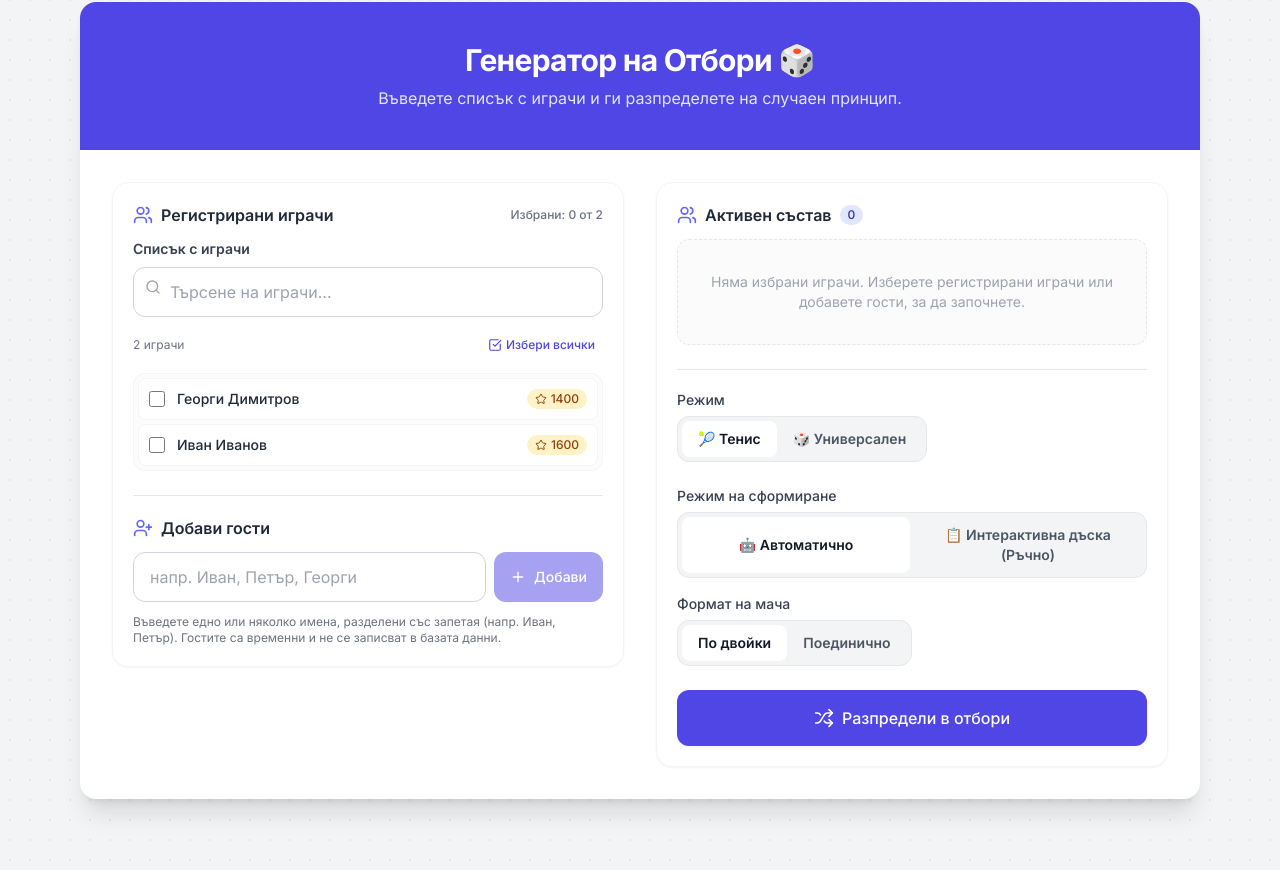
Scenario: GeneratorPage Integration Tests › handles format toggle interaction and passes active format into MatchModal
Note: Switch to singles
Click the button "Поединично".
click(847, 643)  # box [787, 625, 906, 661]
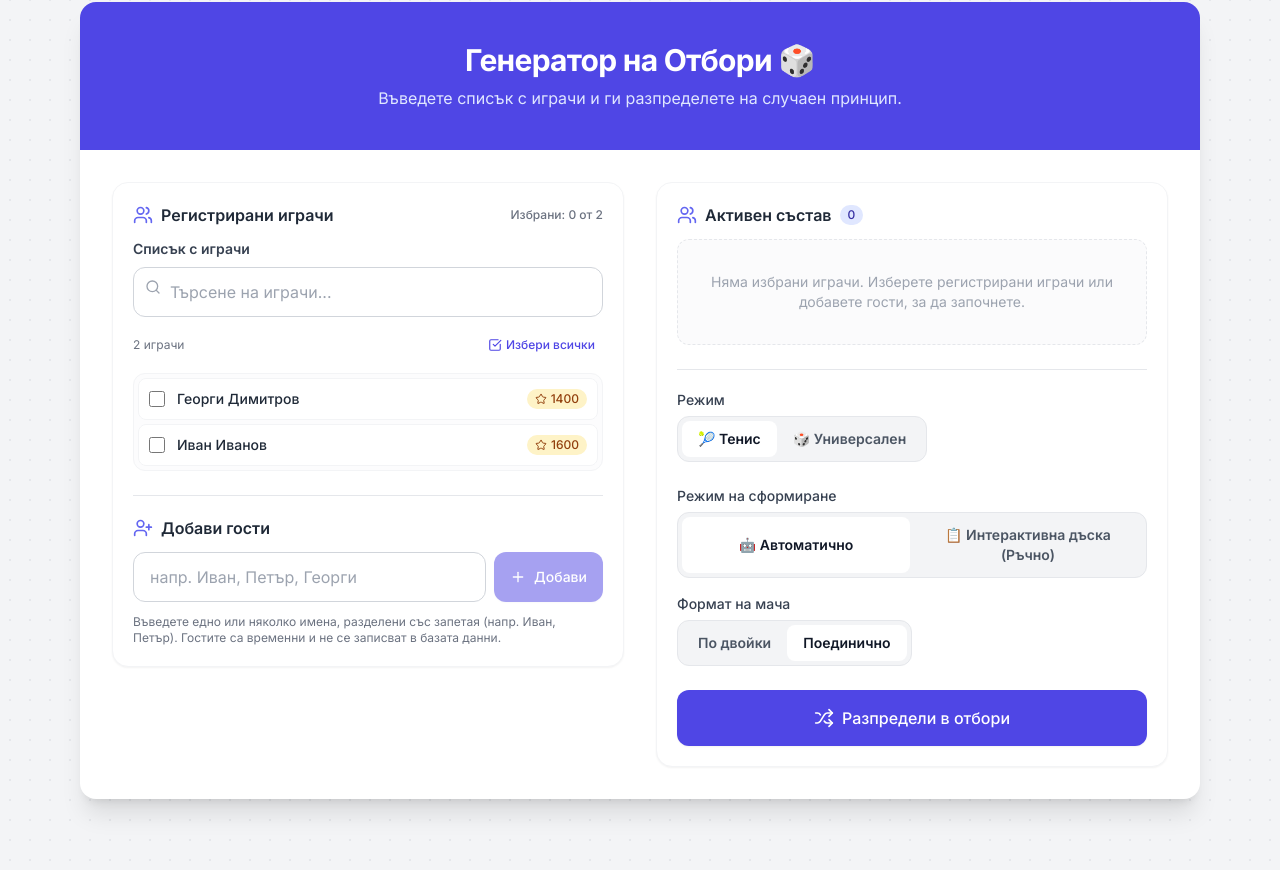
Now the button "Поединично" is pressed, box [787, 625, 906, 661]
Now the button "По двойки" is not pressed, box [682, 625, 787, 661]
Note: Add players and generate teams
Click the checkbox labelled "Иван Иванов".
click(157, 445)  # box [149, 437, 165, 453]
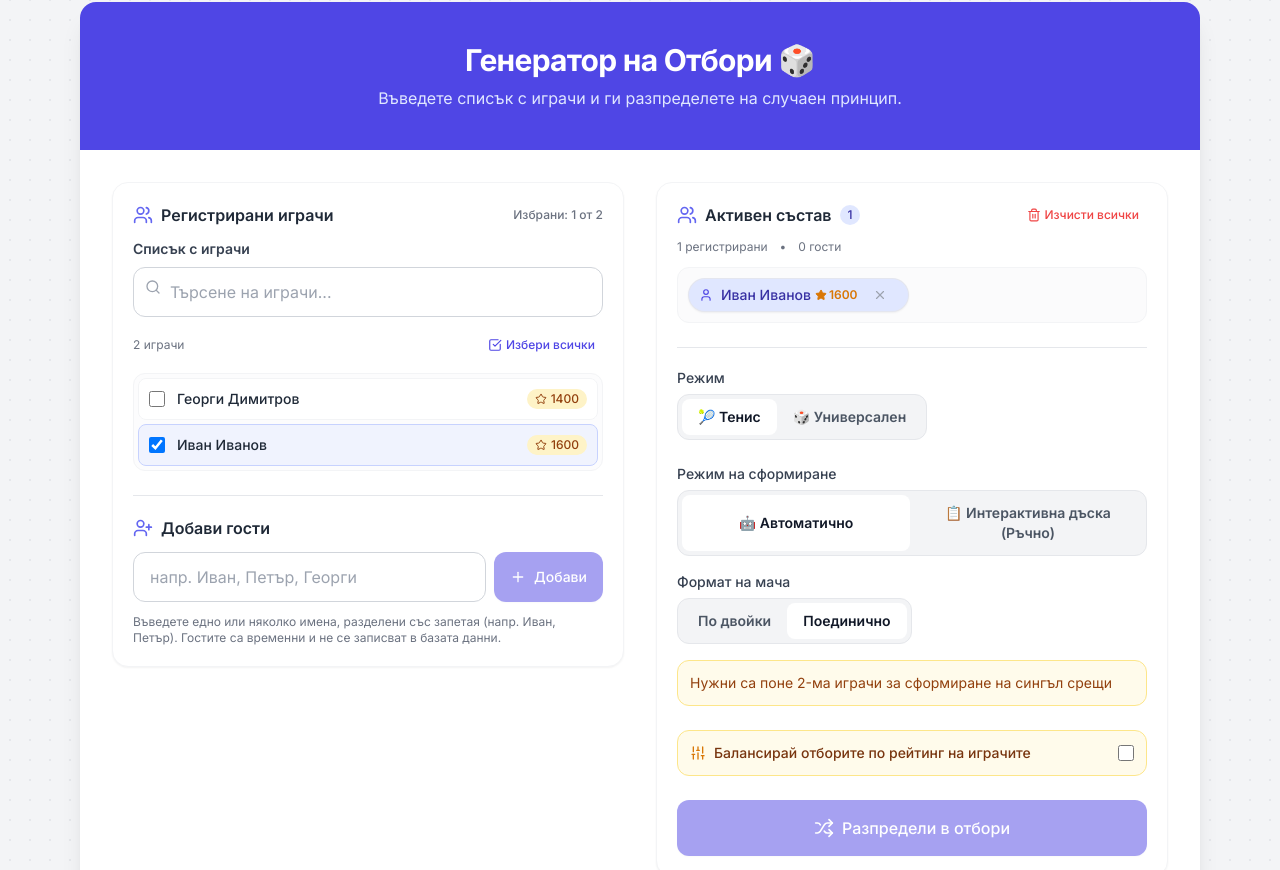
Click the checkbox labelled "Георги Димитров".
click(157, 399)  # box [149, 391, 165, 407]
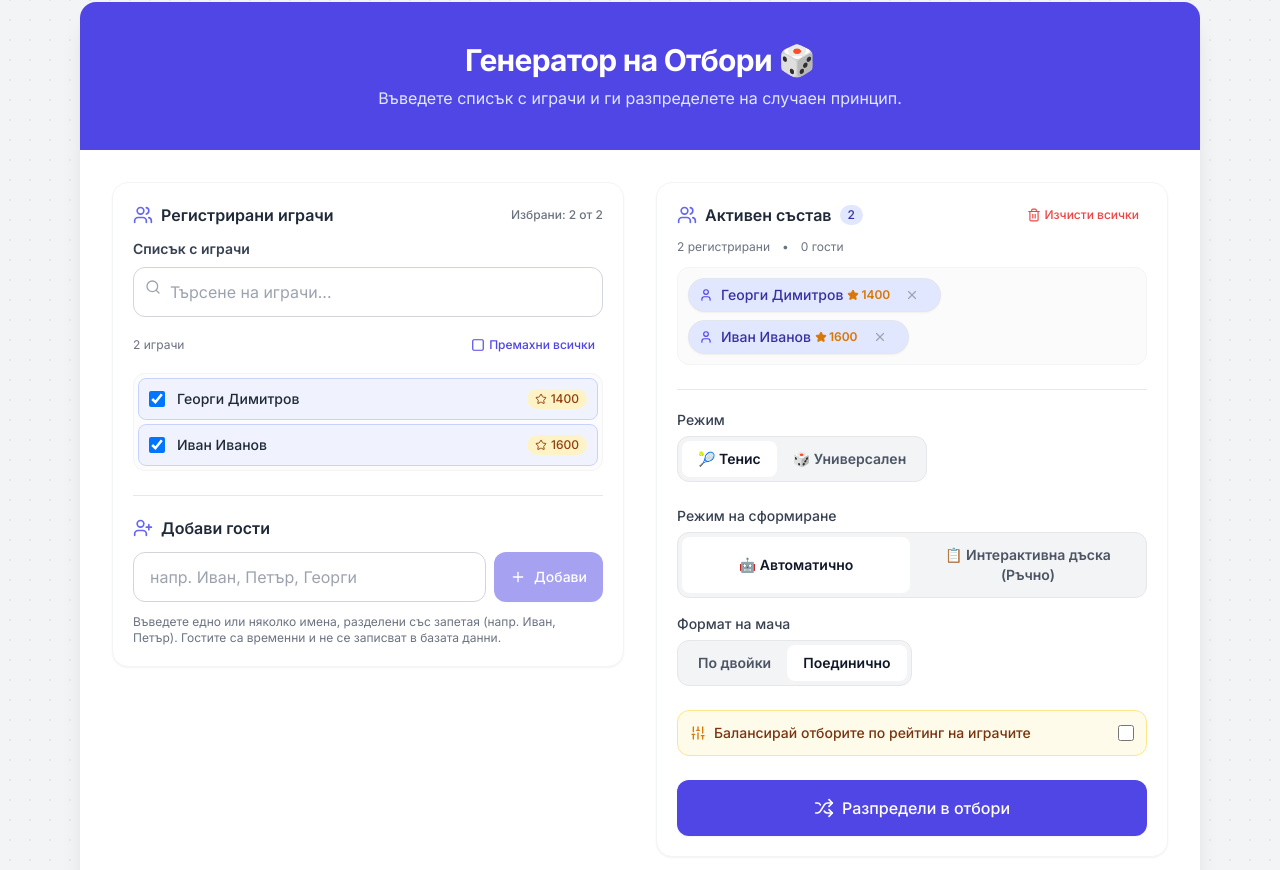
Click the button "Разпредели в отбори".
click(912, 808)  # box [677, 780, 1147, 836]
(page scrolled)
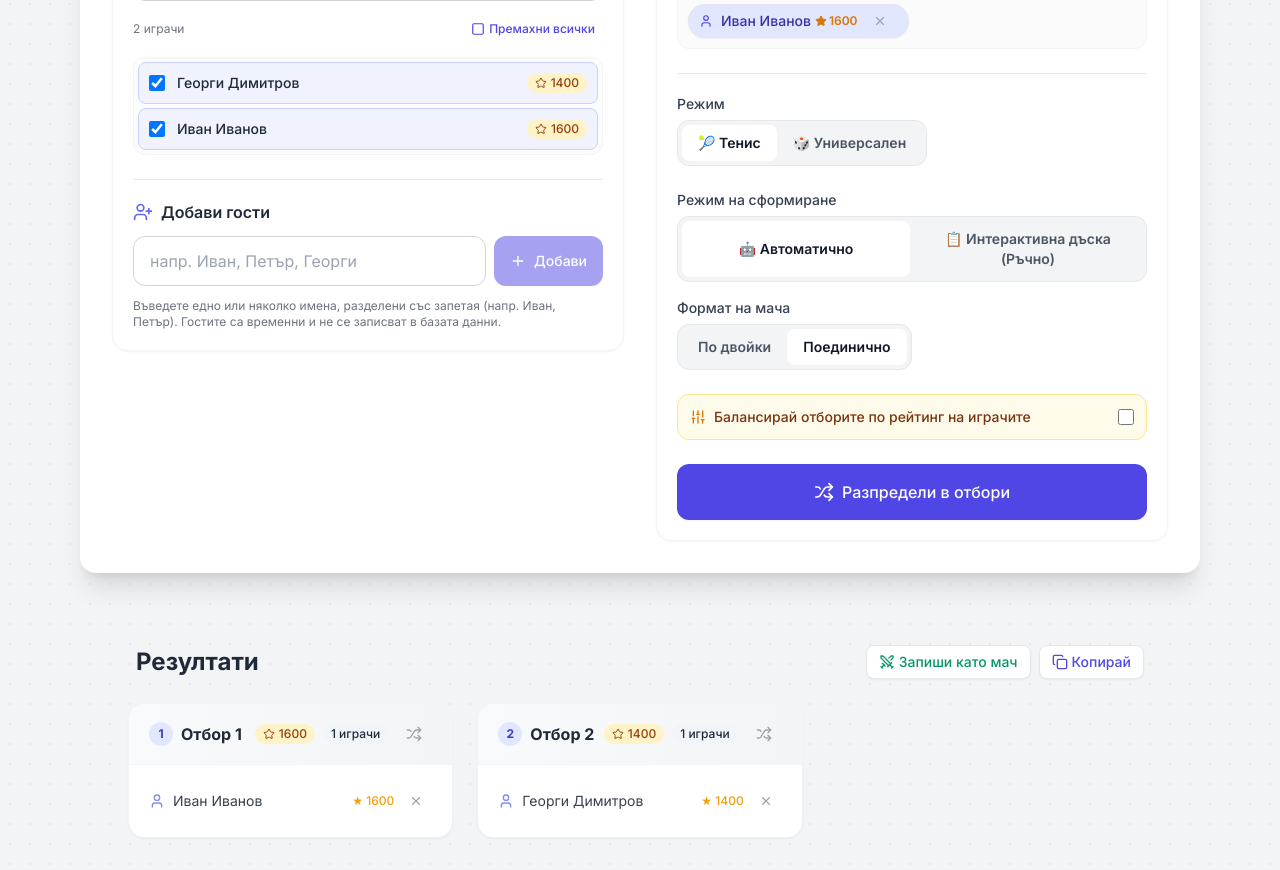
Note: Click "Запиши като мач"
Click the button "Запиши като мач".
click(948, 662)  # box [866, 645, 1030, 679]
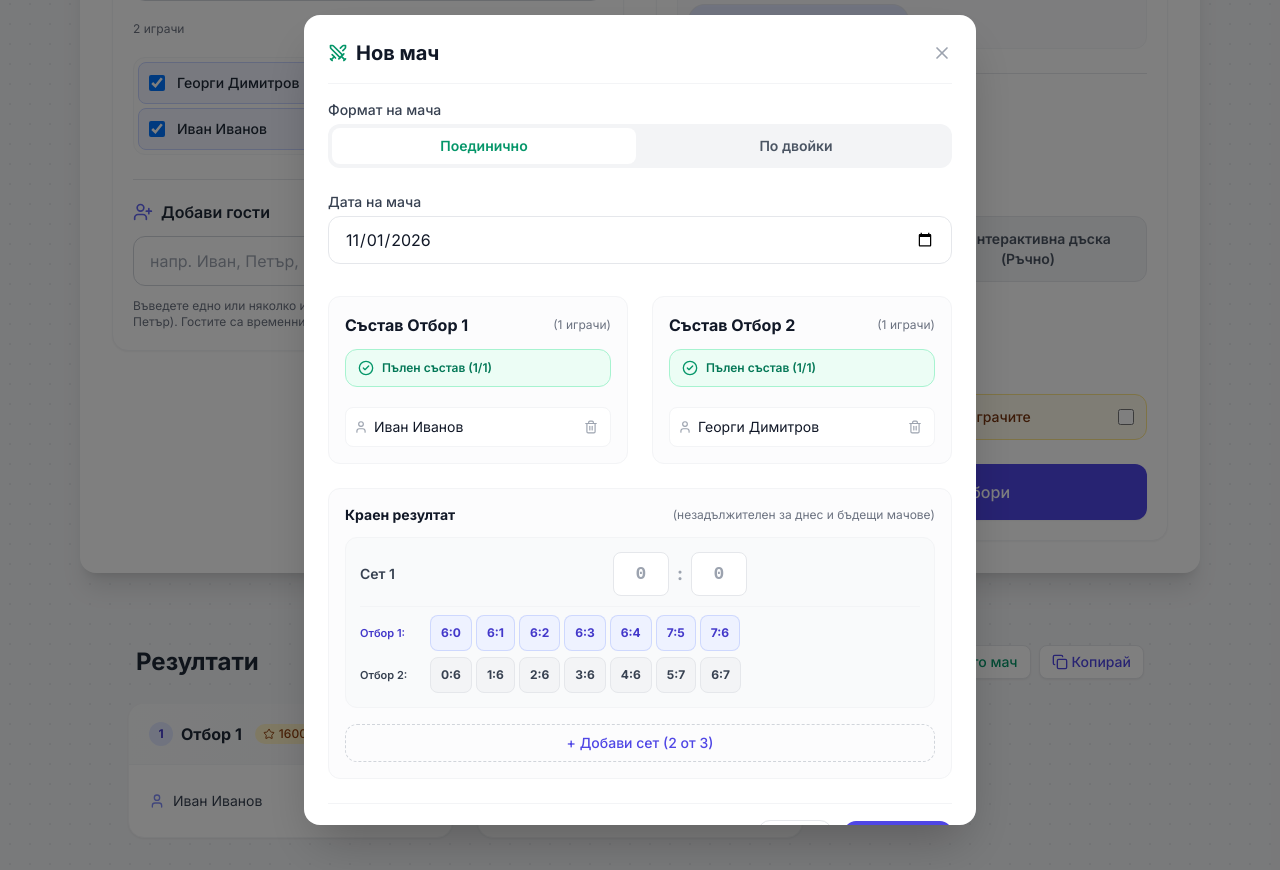
Now the dialog is shown, box [304, 15, 976, 825]
